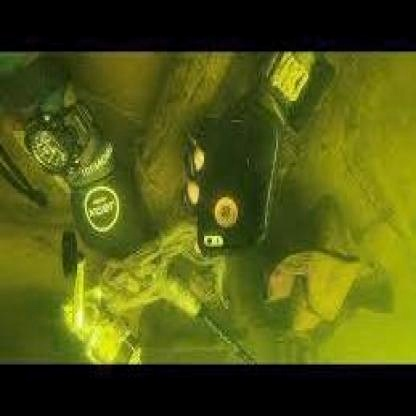cellphone: (198, 110, 257, 258)
